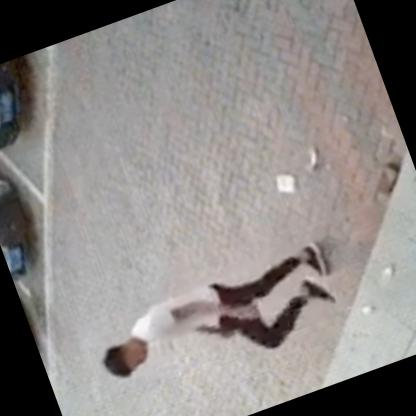Human Body: (85, 233, 356, 411)
